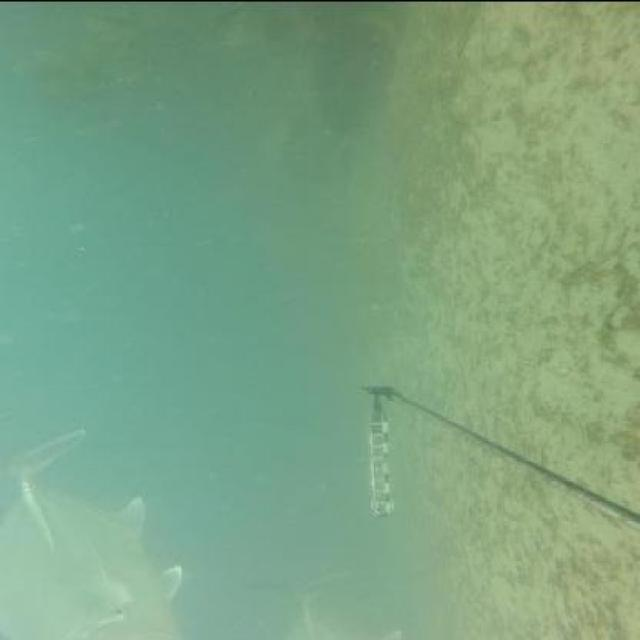Caranx: (0, 425, 198, 639), (242, 568, 402, 640)
